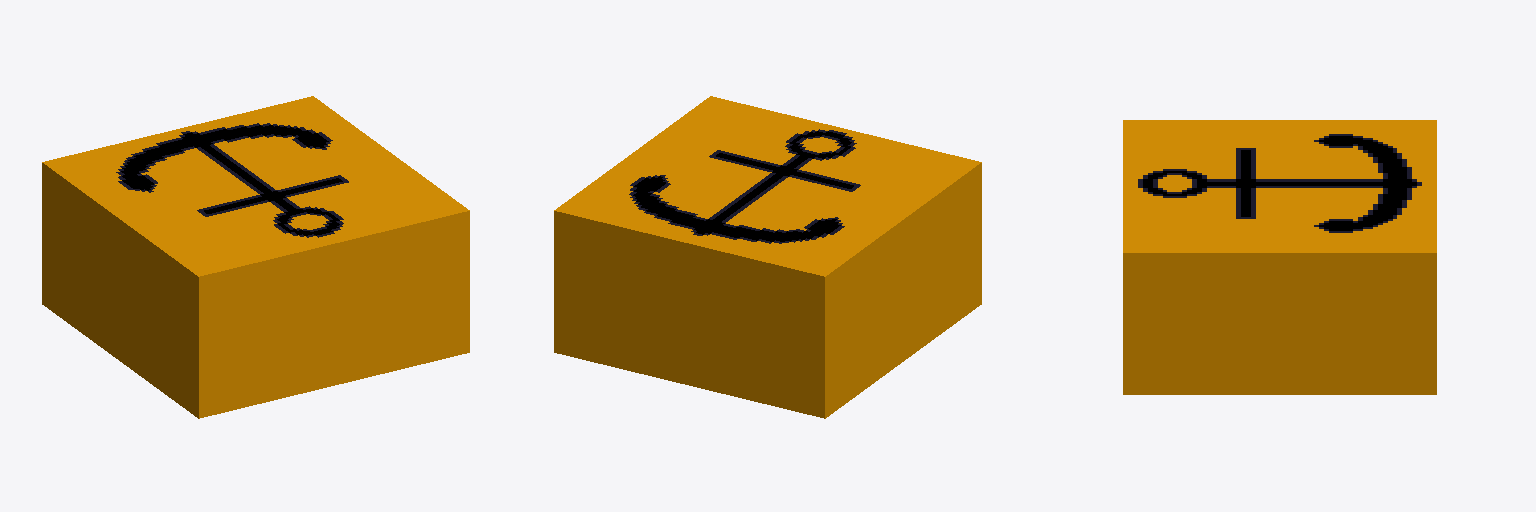
3 renders of one model, left to right at view 1: azimuth 30°, elevation 25°; view 2: azimuth 150°, elevation 25°; view 3: azimuth 270°, elevation 25°, orthographic.
Parts seen in each view (by area): view 1: Anchor1, Anchor2; view 2: Anchor1, Anchor2; view 3: Anchor1, Anchor2.
Boxes of the visible parts, x1,y1,x2,y2 form: Anchor1: [42, 96, 469, 418]; Anchor2: [116, 123, 348, 237]; Anchor1: [554, 96, 981, 418]; Anchor2: [629, 129, 860, 243]; Anchor1: [1123, 120, 1436, 394]; Anchor2: [1138, 134, 1421, 232].
Size of the model in its own units: 2 by 1.02 by 2.
Materials: 2 (1 with a texture image).